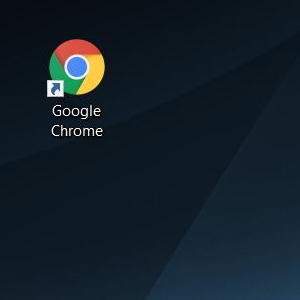chrome: (46, 38, 105, 98)
